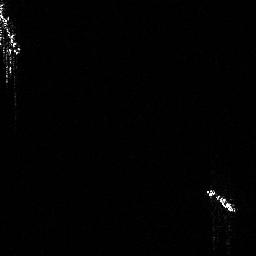ship: (1, 1, 25, 86), (202, 183, 241, 216)
